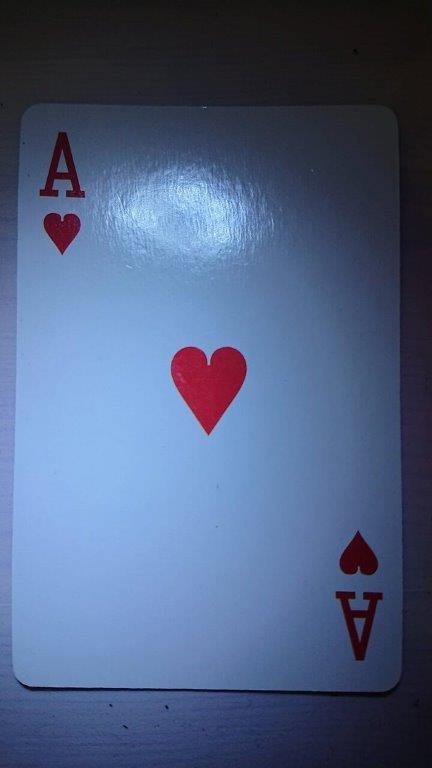AH: (10, 100, 406, 696)
